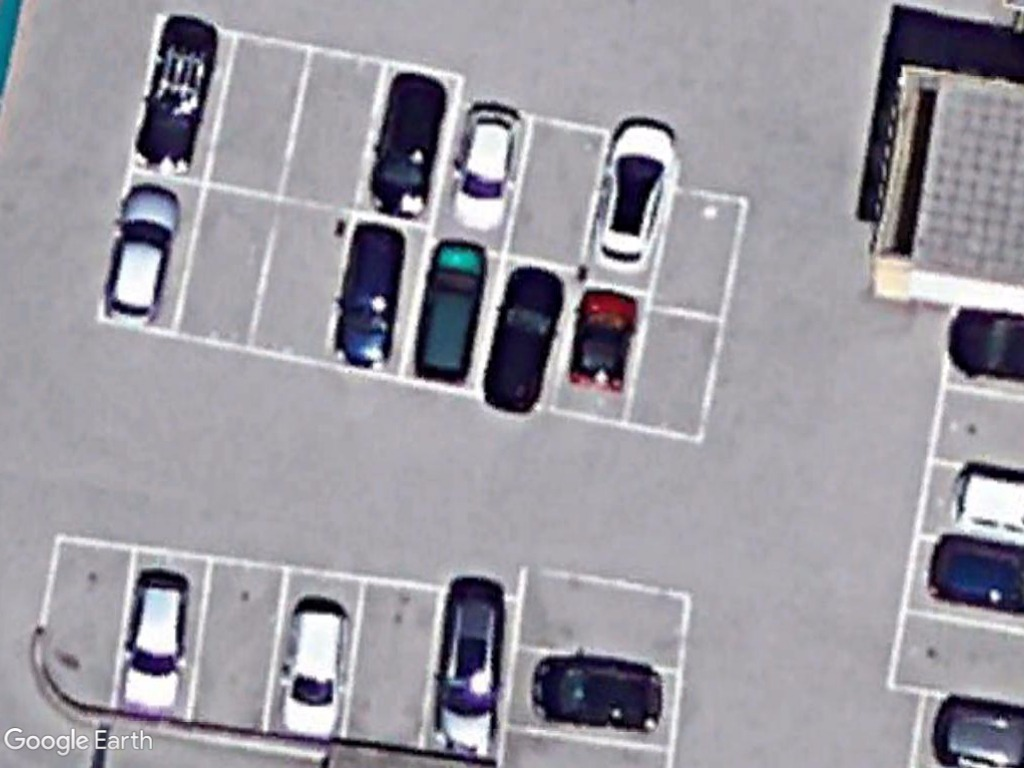car: (94, 180, 188, 336), (590, 120, 683, 274), (424, 587, 506, 755), (479, 264, 567, 416), (327, 218, 409, 378), (278, 602, 356, 745), (413, 237, 490, 381), (446, 100, 523, 243), (117, 573, 193, 715)
